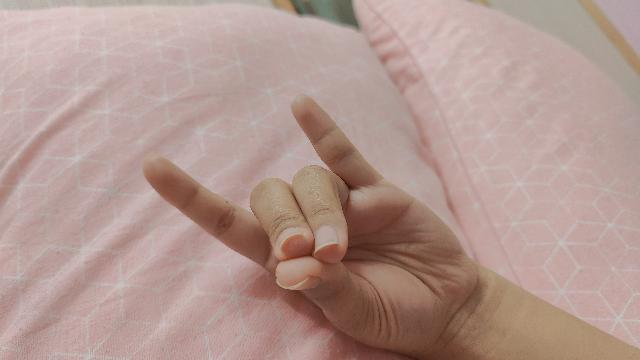sinhamukh: (143, 95, 583, 355)
